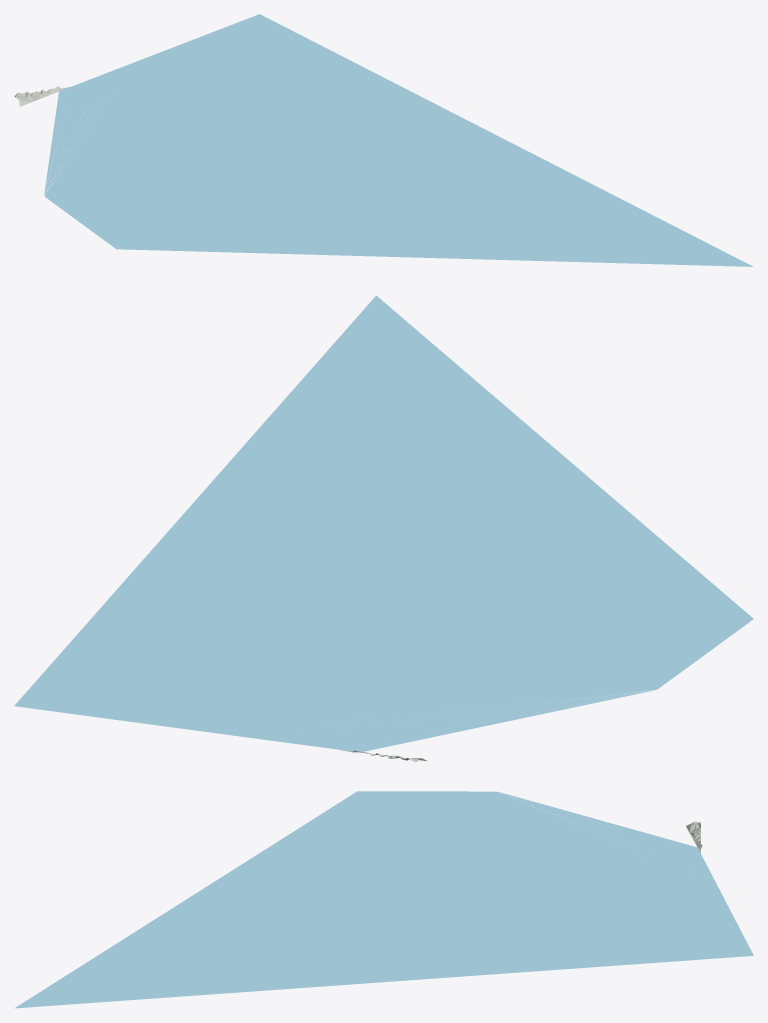
File: terrain-context-D-x4-z1.glb
3 renders of one model, top to bottom at view 1: azimuth 30°, elevation 25°; view 2: azimuth 150°, elevation 25°; view 3: azimuth 270°, elevation 25°, orthographic. The views are drawn at different scales.
Visible parts, largest first — view 1: D-x4-z1; view 2: D-x4-z1; view 3: D-x4-z1.
Part boxes in pixels (left/top/right/bottom): D-x4-z1: left=14, top=14, right=753, bottom=266; D-x4-z1: left=14, top=295, right=753, bottom=762; D-x4-z1: left=14, top=791, right=753, bottom=1008.
Bounding box in the file's own units: 150 × 2.02 × 215.
